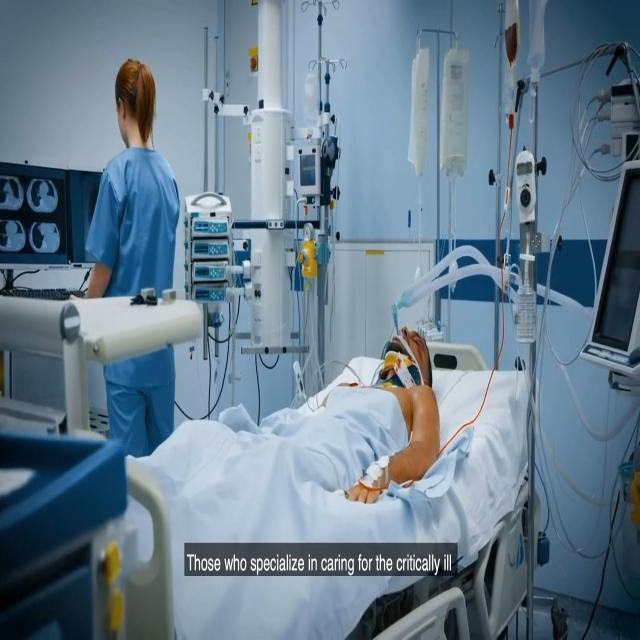Movement-NO: (332, 290, 459, 499)
